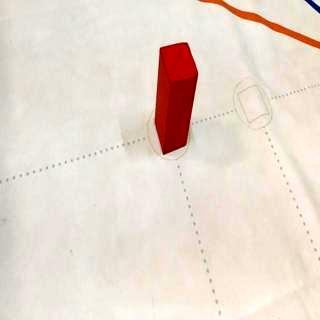redbox: (155, 42, 199, 155)
